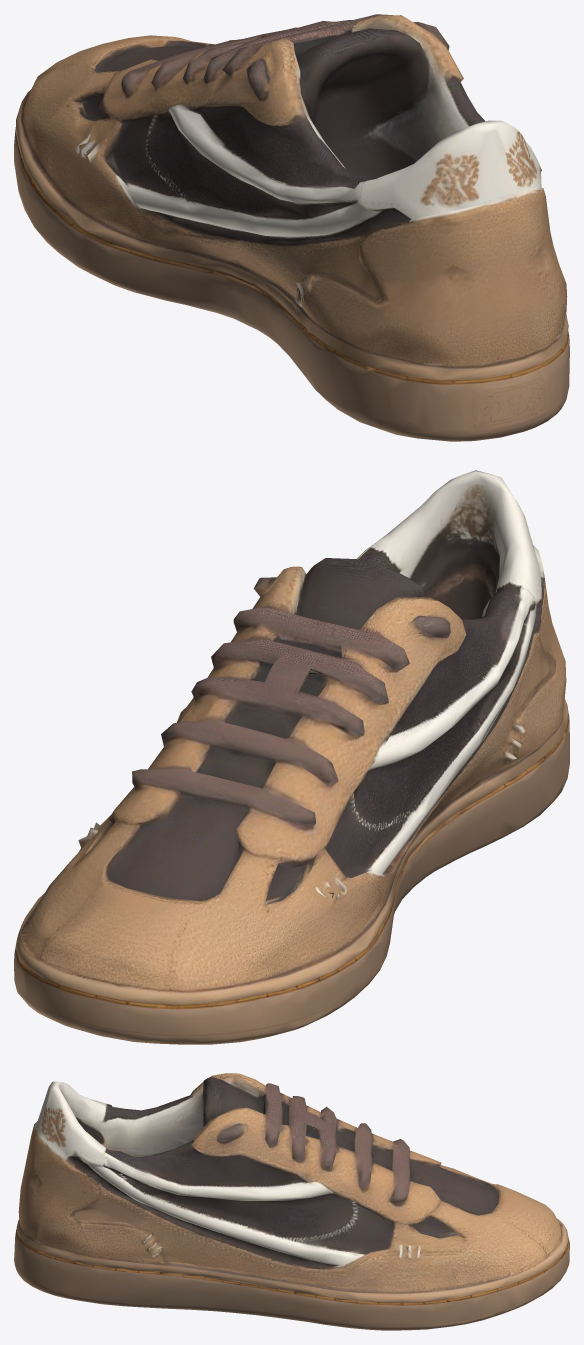
The model's file is filter-kaapi-brown.glb.
3 renders of one model, top to bottom at view 1: azimuth 30°, elevation 25°; view 2: azimuth 150°, elevation 25°; view 3: azimuth 270°, elevation 25°, orthographic. The views are drawn at different scales.
Visible parts, largest first — view 1: tripo_node_c16147e8-3ed3-4bc3-bdee-ac1d70c9f992; view 2: tripo_node_c16147e8-3ed3-4bc3-bdee-ac1d70c9f992; view 3: tripo_node_c16147e8-3ed3-4bc3-bdee-ac1d70c9f992.
Part boxes in pixels (<box>): tripo_node_c16147e8-3ed3-4bc3-bdee-ac1d70c9f992: <box>14,14,569,441</box>; tripo_node_c16147e8-3ed3-4bc3-bdee-ac1d70c9f992: <box>14,470,569,1044</box>; tripo_node_c16147e8-3ed3-4bc3-bdee-ac1d70c9f992: <box>14,1073,569,1330</box>.
Bounding box in the file's own units: 0.4066 × 0.3937 × 1.
Materials: 1 (1 with a texture image).
